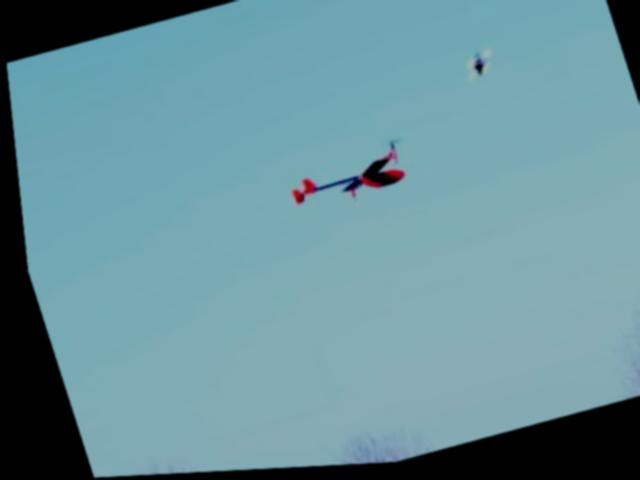uav: (267, 128, 418, 229)
